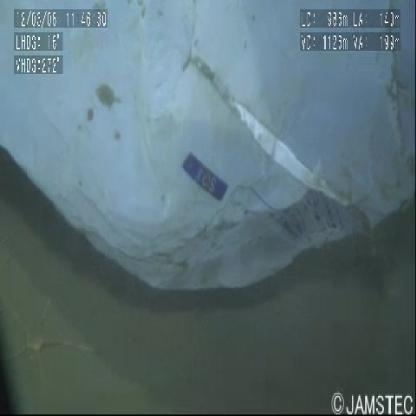Rác: (1, 1, 414, 299)
